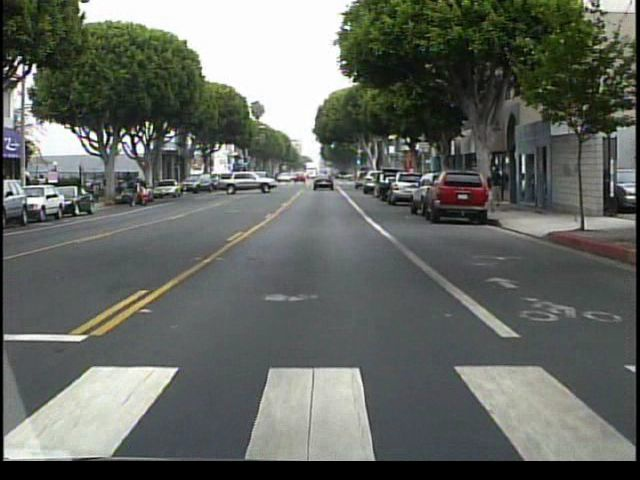person: (486, 167, 507, 215), (132, 178, 150, 209)
